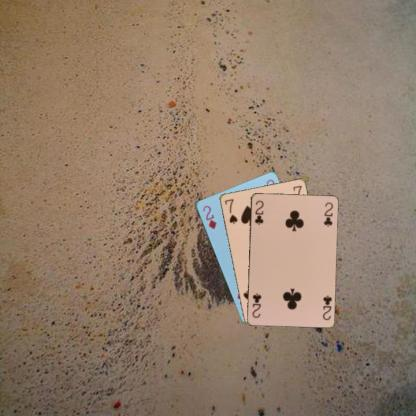2c: (320, 292, 333, 321), (252, 198, 265, 226)
2d: (200, 203, 217, 230)
7s: (222, 196, 238, 225)
